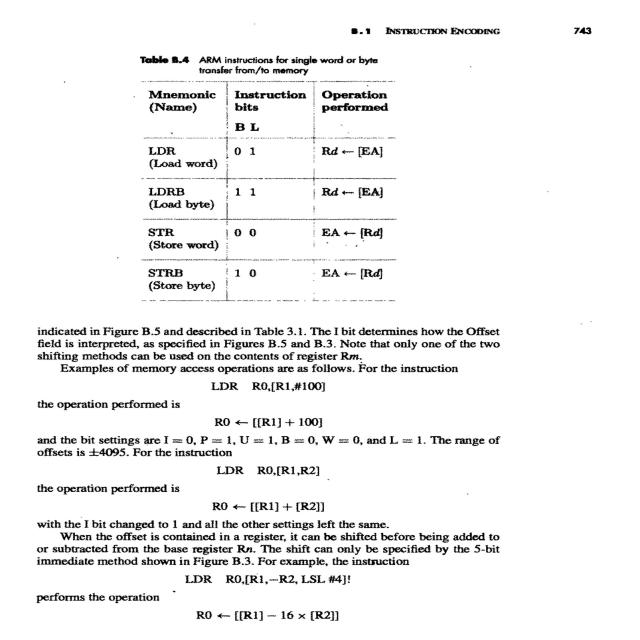diagram: (18, 38, 427, 306)
